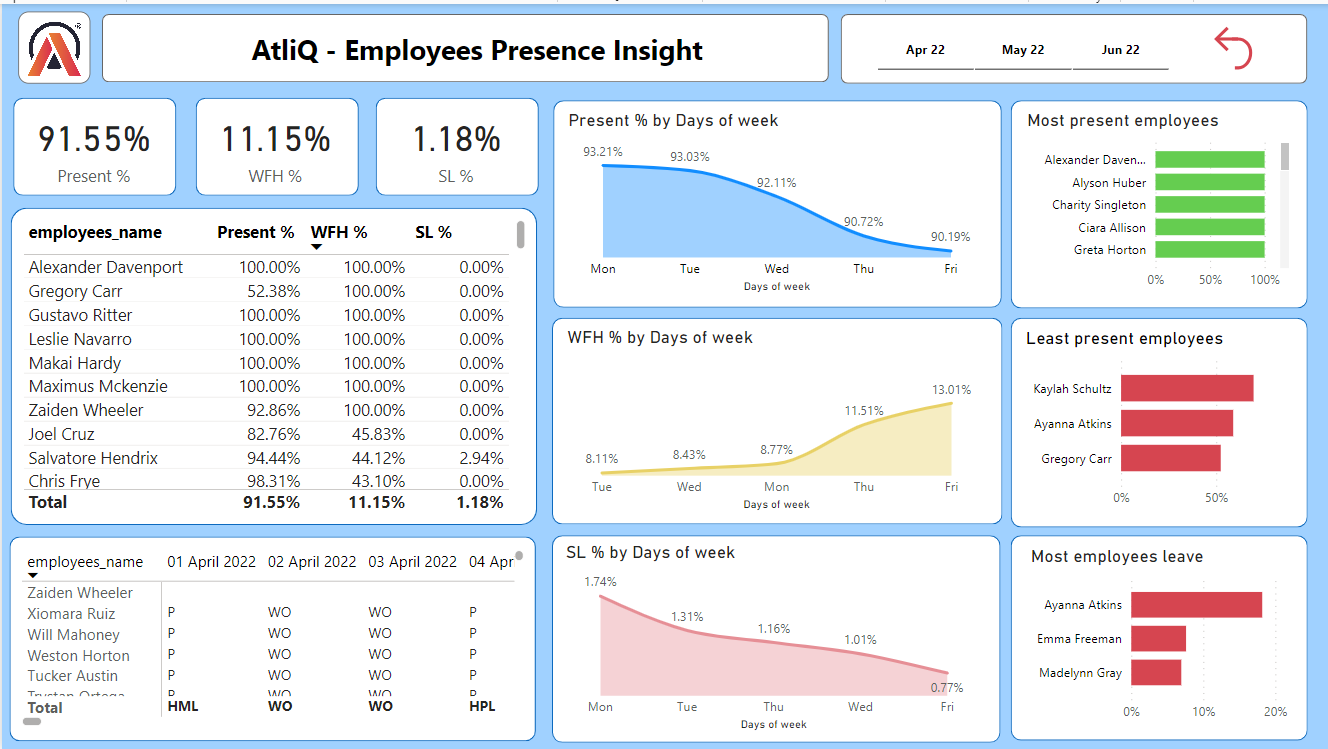

Layout of this report page (visuals, bound fields, positions):
{"tool":"powerbi","page":{"name":"Employees Presence Insight","canvas":[1280,720],"ordinal":0},"visuals":[{"type":"shape","box":[809.6,9.6,450.1,67.2],"z":0},{"type":"shape","box":[96,10,701.2,65.9],"z":0,"group":"g1"},{"type":"shape","box":[11.1,90.4,157.2,94.6],"z":0,"group":"g4"},{"type":"shape","box":[531.7,92.7,432.7,200.3],"z":0,"group":"g7"},{"type":"shape","box":[973.5,92.7,286.5,201],"z":0,"group":"g10"},{"type":"shape","box":[7,513.4,507.8,197.6],"z":0,"group":"g3"},{"type":"slicer","fields":{"Values":["Attendance Sheet 2022-2023_Masked xlsx.month"]},"box":[819.2,16.5,330.7,53.5],"z":1000},{"type":"shape","box":[186.4,90.4,157.2,94.6],"z":1000,"group":"g5"},{"type":"shape","box":[8.3,196.2,507.8,306.1],"z":1000,"group":"g2"},{"type":"shape","box":[530.2,302.2,434.7,199.6],"z":1000,"group":"g8"},{"type":"shape","box":[973.5,302.2,286.5,202.4],"z":1000,"group":"g11"},{"type":"actionButton","box":[1160.9,15.1,82.3,53.5],"z":2000},{"type":"shape","box":[360.3,90.4,157.2,94.6],"z":2000,"group":"g6"},{"type":"shape","box":[530.1,512,432.7,200.3],"z":2000,"group":"g9"},{"type":"shape","box":[973.5,513.1,286.5,198.1],"z":2000,"group":"g12"},{"type":"group","id":"g1","title":"Group 1","box":[96,10,701.2,65.9],"z":3000},{"type":"image","box":[15.1,6.9,70,70],"z":4000},{"type":"card","fields":{"Values":["Measures (2).Present %"]},"box":[16.7,97.4,143.3,80.7],"z":4000,"group":"g4"},{"type":"group","id":"g2","title":"Group 2","box":[8.3,196.2,507.8,306.1],"z":5000},{"type":"card","fields":{"Values":["Measures (2).WFH %"]},"box":[194.7,97.4,136.3,80.7],"z":6000,"group":"g5"},{"type":"areaChart","fields":{"Category":["Attendance Sheet 2022-2023_Masked xlsx.Days of week"],"Y":["Measures (2).Present %"]},"box":[541.1,101,412.8,182.3],"z":6000,"group":"g7"},{"type":"barChart","title":"Most present employees","fields":{"Category":["Attendance Sheet 2022-2023_Masked xlsx.employees_name"],"Y":["Key Measures.Present %"]},"box":[984.9,101.1,262.3,182.7],"z":6000,"group":"g10"},{"type":"group","id":"g3","title":"Group 3","box":[7,513.4,507.8,197.6],"z":6000},{"type":"pivotTable","fields":{"Rows":["Attendance Sheet 2022-2023_Masked xlsx.employees_name"],"Columns":["Attendance Sheet 2022-2023_Masked xlsx.date"],"Values":["Min(Attendance Sheet 2022-2023_Masked xlsx.Value)"]},"box":[14,521.7,493.9,179.5],"z":6000,"group":"g3"},{"type":"group","id":"g4","title":"Group 4","box":[11.1,90.4,157.2,94.6],"z":7000},{"type":"card","fields":{"Values":["Measures (2).SL %"]},"box":[368.6,97.4,137.7,80.7],"z":7000,"group":"g6"},{"type":"tableEx","fields":{"Values":["Attendance Sheet 2022-2023_Masked xlsx.employees_name","Measures (2).Present %","Measures (2).WFH %","Measures (2).SL %"]},"box":[13.9,203.2,495.3,292.2],"z":7000,"group":"g2"},{"type":"areaChart","fields":{"Y":["Measures (2).WFH %"],"Category":["Attendance Sheet 2022-2023_Masked xlsx.Days of week"]},"box":[539.6,310.5,414.7,182.9],"z":7000,"group":"g8"},{"type":"barChart","title":"Most employees leave ","fields":{"Category":["Attendance Sheet 2022-2023_Masked xlsx.employees_name"],"Y":["Key Measures.SL %"]},"box":[987.8,522.8,258,178.7],"z":7000,"group":"g12"},{"type":"textbox","box":[138.8,20.3,639.5,49.4],"z":8000,"group":"g1"},{"type":"group","id":"g5","title":"Group 5","box":[186.4,90.4,157.2,94.6],"z":8000},{"type":"areaChart","fields":{"Y":["Measures (2).SL %"],"Category":["Attendance Sheet 2022-2023_Masked xlsx.Days of week"]},"box":[538.3,517.6,411.6,187.8],"z":8000,"group":"g9"},{"type":"group","id":"g6","title":"Group 6","box":[360.3,90.4,157.2,94.6],"z":9000},{"type":"group","id":"g7","title":"Group 7","box":[531.7,92.7,431.9,201],"z":10000},{"type":"group","id":"g8","title":"Group 8","box":[530.2,302.2,434.7,199.6],"z":11000},{"type":"group","id":"g9","title":"Group 9","box":[530.1,512,432.7,200.3],"z":12000},{"type":"group","id":"g10","title":"Group 10","box":[973.5,92.7,286.5,201],"z":13000},{"type":"group","id":"g11","title":"Group 11","box":[973.5,302.2,286.5,202.4],"z":14000},{"type":"group","id":"g12","title":"Group 12","box":[973.5,513.1,286.5,198.1],"z":15000},{"type":"barChart","title":"Least present employees","fields":{"Category":["Attendance Sheet 2022-2023_Masked xlsx.employees_name"],"Y":["Key Measures.Present %"]},"box":[983.5,312.1,260.8,182.6],"z":18000,"group":"g11"}]}

Visuals, with their boxes in screenshot pixels (x1, y1, x2, y2), scaled from the page's 1280x720 canvas onto the 1328x749 screenshot:
shape: x1=840, y1=10, x2=1307, y2=80
shape: x1=100, y1=10, x2=827, y2=79
shape: x1=12, y1=94, x2=175, y2=192
shape: x1=552, y1=96, x2=1001, y2=305
shape: x1=1010, y1=96, x2=1307, y2=306
shape: x1=7, y1=534, x2=534, y2=740
slicer - Attendance Sheet 2022-2023_Masked xlsx.month: x1=850, y1=17, x2=1193, y2=73
shape: x1=193, y1=94, x2=356, y2=192
shape: x1=9, y1=204, x2=535, y2=523
shape: x1=550, y1=314, x2=1001, y2=522
shape: x1=1010, y1=314, x2=1307, y2=525
actionButton: x1=1204, y1=16, x2=1290, y2=71
shape: x1=374, y1=94, x2=537, y2=192
shape: x1=550, y1=533, x2=999, y2=741
shape: x1=1010, y1=534, x2=1307, y2=740
"Group 1" group: x1=100, y1=10, x2=827, y2=79
image: x1=16, y1=7, x2=88, y2=80
card - Measures (2).Present %: x1=17, y1=101, x2=166, y2=185
"Group 2" group: x1=9, y1=204, x2=535, y2=523
card - Measures (2).WFH %: x1=202, y1=101, x2=343, y2=185
areaChart - Attendance Sheet 2022-2023_Masked xlsx.Days of week x Measures (2).Present %: x1=561, y1=105, x2=990, y2=295
"Most present employees" barChart: x1=1022, y1=105, x2=1294, y2=295
"Group 3" group: x1=7, y1=534, x2=534, y2=740
pivotTable - Attendance Sheet 2022-2023_Masked xlsx.employees_name x Attendance Sheet 2022-2023_Masked xlsx.date: x1=15, y1=543, x2=527, y2=729
"Group 4" group: x1=12, y1=94, x2=175, y2=192
card - Measures (2).SL %: x1=382, y1=101, x2=525, y2=185
tableEx - Attendance Sheet 2022-2023_Masked xlsx.employees_name x Measures (2).Present %: x1=14, y1=211, x2=528, y2=515
areaChart - Measures (2).WFH % x Attendance Sheet 2022-2023_Masked xlsx.Days of week: x1=560, y1=323, x2=990, y2=513
"Most employees leave " barChart: x1=1025, y1=544, x2=1293, y2=730
textbox: x1=144, y1=21, x2=807, y2=73
"Group 5" group: x1=193, y1=94, x2=356, y2=192
areaChart - Measures (2).SL % x Attendance Sheet 2022-2023_Masked xlsx.Days of week: x1=558, y1=538, x2=986, y2=734
"Group 6" group: x1=374, y1=94, x2=537, y2=192
"Group 7" group: x1=552, y1=96, x2=1000, y2=306
"Group 8" group: x1=550, y1=314, x2=1001, y2=522
"Group 9" group: x1=550, y1=533, x2=999, y2=741
"Group 10" group: x1=1010, y1=96, x2=1307, y2=306
"Group 11" group: x1=1010, y1=314, x2=1307, y2=525
"Group 12" group: x1=1010, y1=534, x2=1307, y2=740
"Least present employees" barChart: x1=1020, y1=325, x2=1291, y2=515
